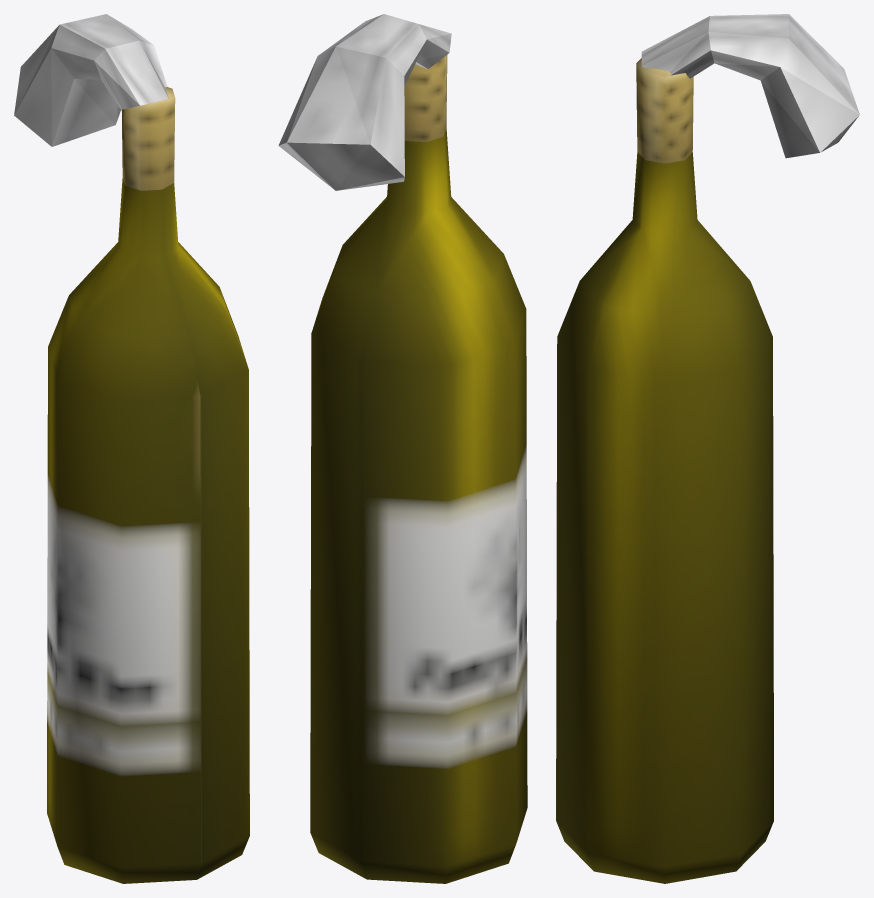
The model's file is Winemolo_Hand.fbx.
The picture shows the model from 3 angles, left to right: view 1: azimuth 30°, elevation 25°; view 2: azimuth 150°, elevation 25°; view 3: azimuth 270°, elevation 25°; orthographic projection. The views are drawn at different scales.
Visible parts, largest first — view 1: MyObj; view 2: MyObj; view 3: MyObj.
Part boxes in pixels (x1,y1,x2,y2): MyObj: (14,14,249,883); MyObj: (278,14,527,883); MyObj: (556,14,859,883).
Size of the model in its own units: 0.0535 by 0.2208 by 0.0746.
